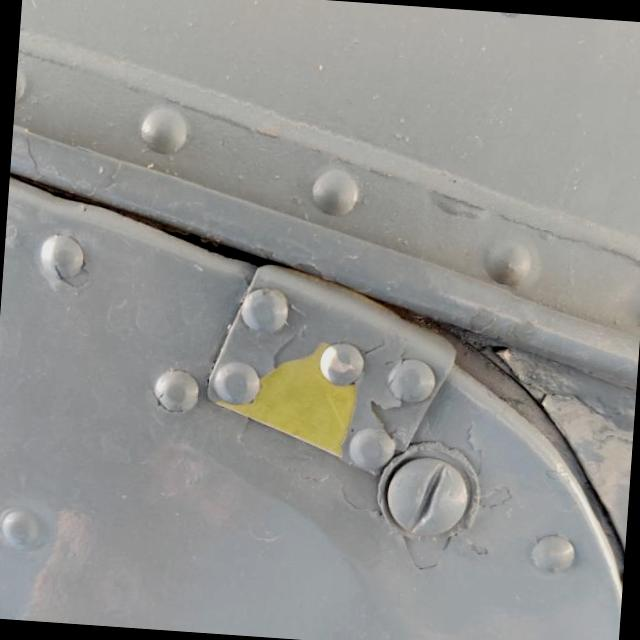paint-off: (196, 316, 384, 479)
